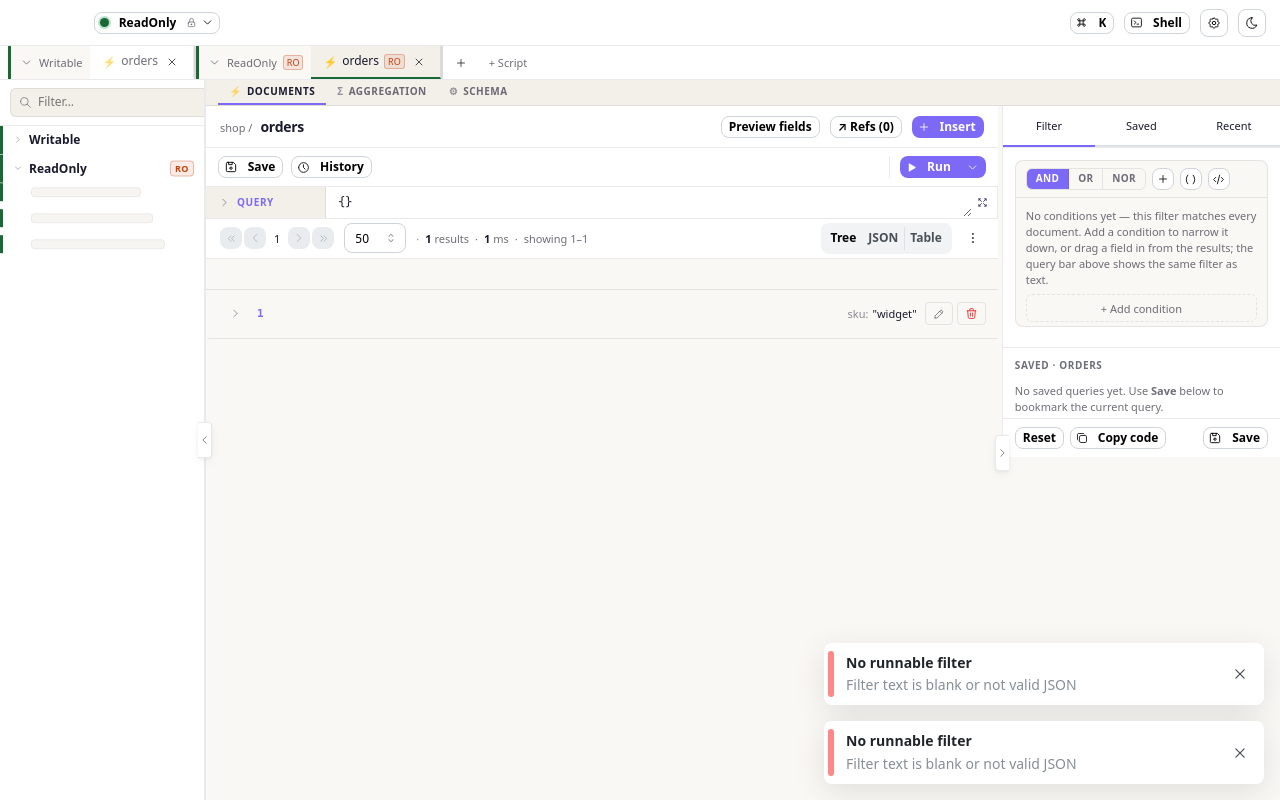
Test: workspace delete modes (T1) › readOnly reads off the Focused Tab's Connection, not another open one
The image size is (1280, 800).
Expected: the text "\"widget\"" is shown, [872, 305, 917, 322]
Click the button titled "Delete document": (971, 314) [957, 302, 986, 325]
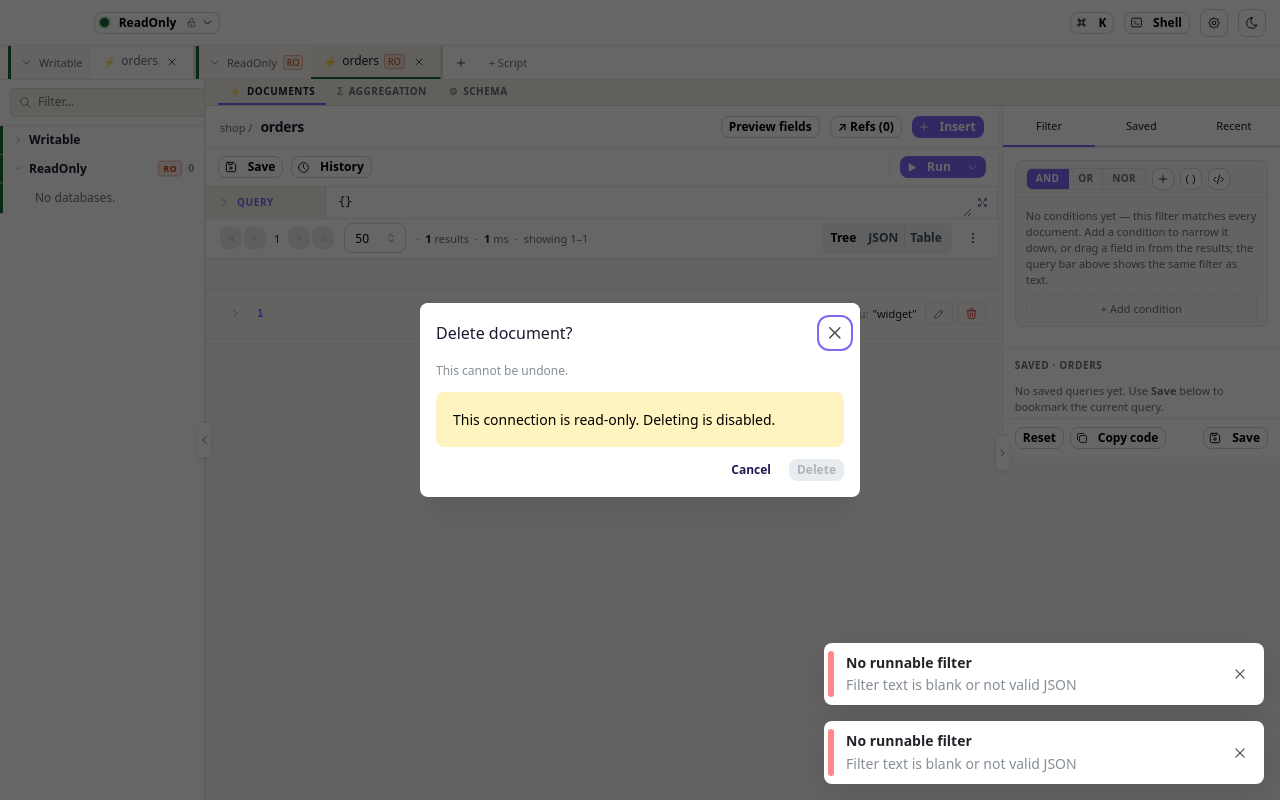
Now the text "This connection is read-only. Deleting is disabled." is shown, box [453, 408, 827, 430]
Now the button "Delete" is disabled, box [789, 459, 844, 481]
